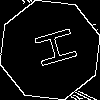H: (25, 25, 78, 72)
